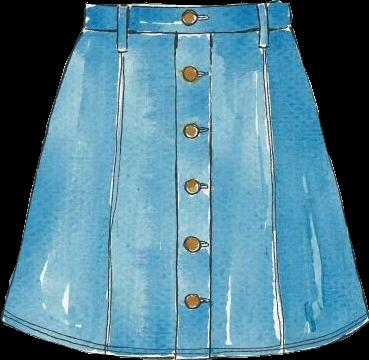Hemline: (0, 317, 368, 359)
Waistline: (81, 23, 291, 36), (86, 0, 284, 10)
